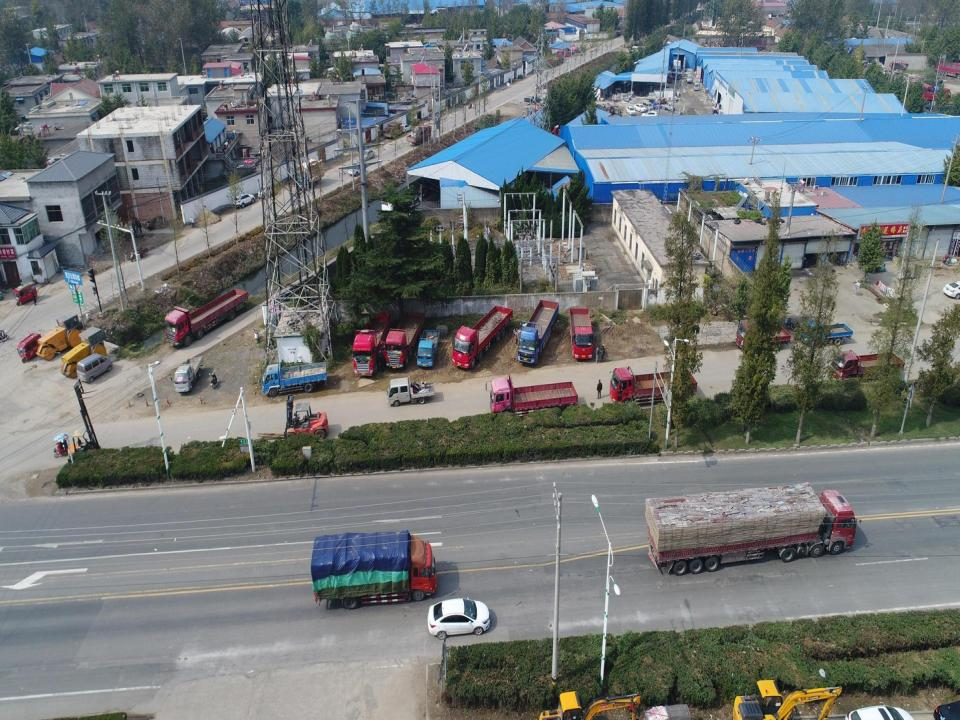car: (428, 596, 490, 636), (348, 162, 366, 176), (360, 148, 376, 159), (641, 110, 658, 120), (398, 121, 411, 133), (634, 103, 647, 112), (626, 106, 635, 116)
truck: (628, 485, 859, 573), (310, 527, 438, 612), (161, 288, 251, 349), (480, 374, 581, 425), (607, 364, 701, 412), (453, 304, 514, 372), (375, 305, 426, 372), (259, 354, 330, 397), (828, 348, 906, 387), (515, 296, 558, 363), (351, 306, 390, 379), (733, 320, 792, 354), (566, 306, 594, 364), (798, 318, 854, 346), (170, 354, 206, 397), (385, 377, 437, 404), (416, 328, 438, 367), (294, 161, 323, 190), (406, 124, 433, 144), (542, 50, 565, 68), (383, 121, 405, 139), (672, 63, 682, 80), (661, 102, 675, 112)
van: (77, 353, 114, 387), (255, 184, 280, 200), (643, 100, 653, 111), (693, 82, 700, 92), (685, 73, 692, 83)
